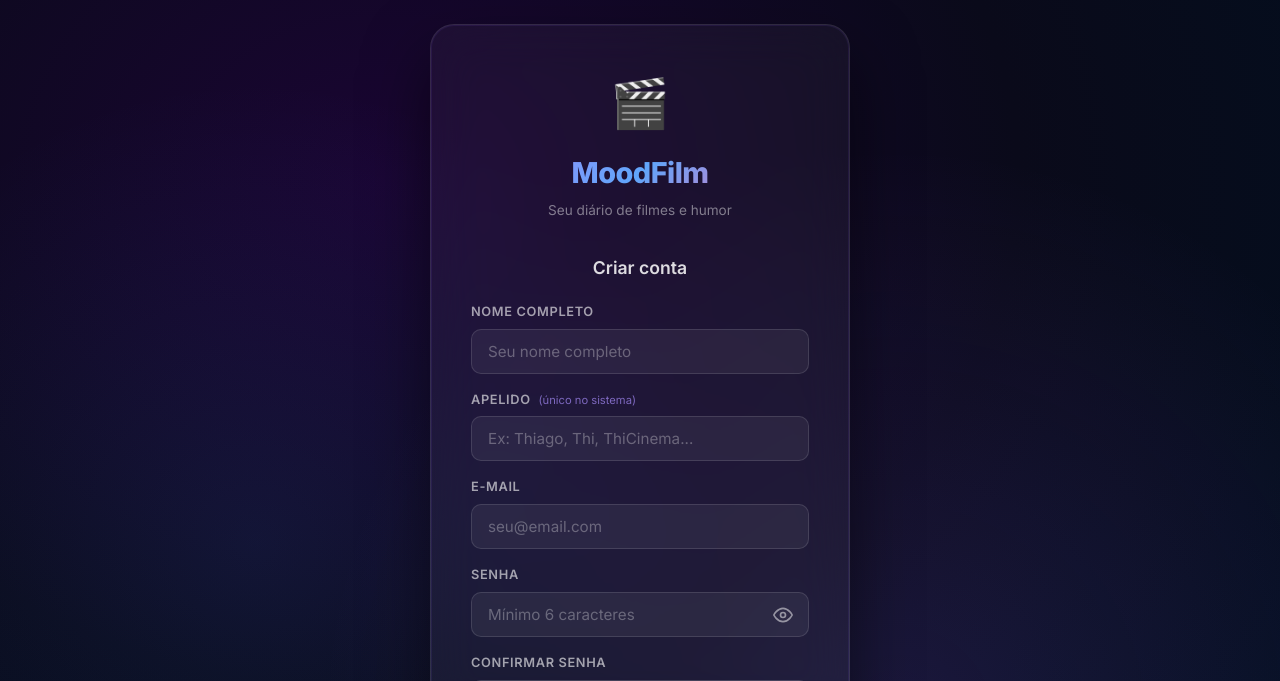
it: Register Page Component › deve checar e exibir feedback visual quando o apelido estiver disponível
Type "cinematografo" into the field labelled "Apelido (único no sistema)".
click(640, 439); type("cinematografo")  # box top-left (471, 416), bottom-right (809, 462)
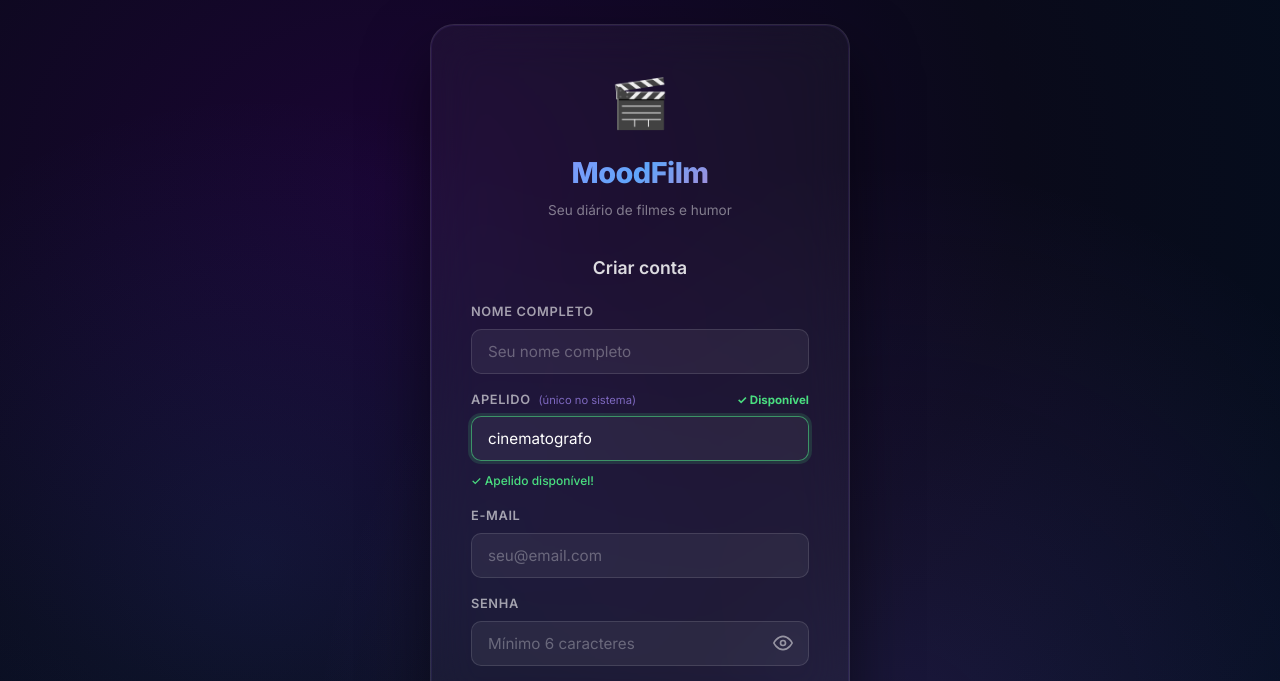
Result: the text "✓ Apelido disponível!" is shown at top-left (471, 473), bottom-right (594, 488)
